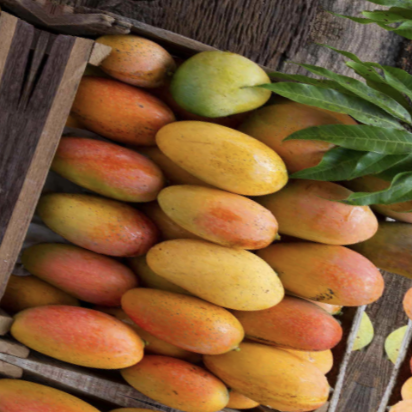mango: (124, 213, 303, 332), (141, 102, 308, 213), (4, 282, 166, 392), (22, 120, 189, 222), (174, 315, 340, 412), (108, 272, 256, 378), (247, 214, 392, 322), (155, 167, 298, 265), (155, 27, 283, 131), (21, 227, 158, 319), (103, 336, 239, 412)
